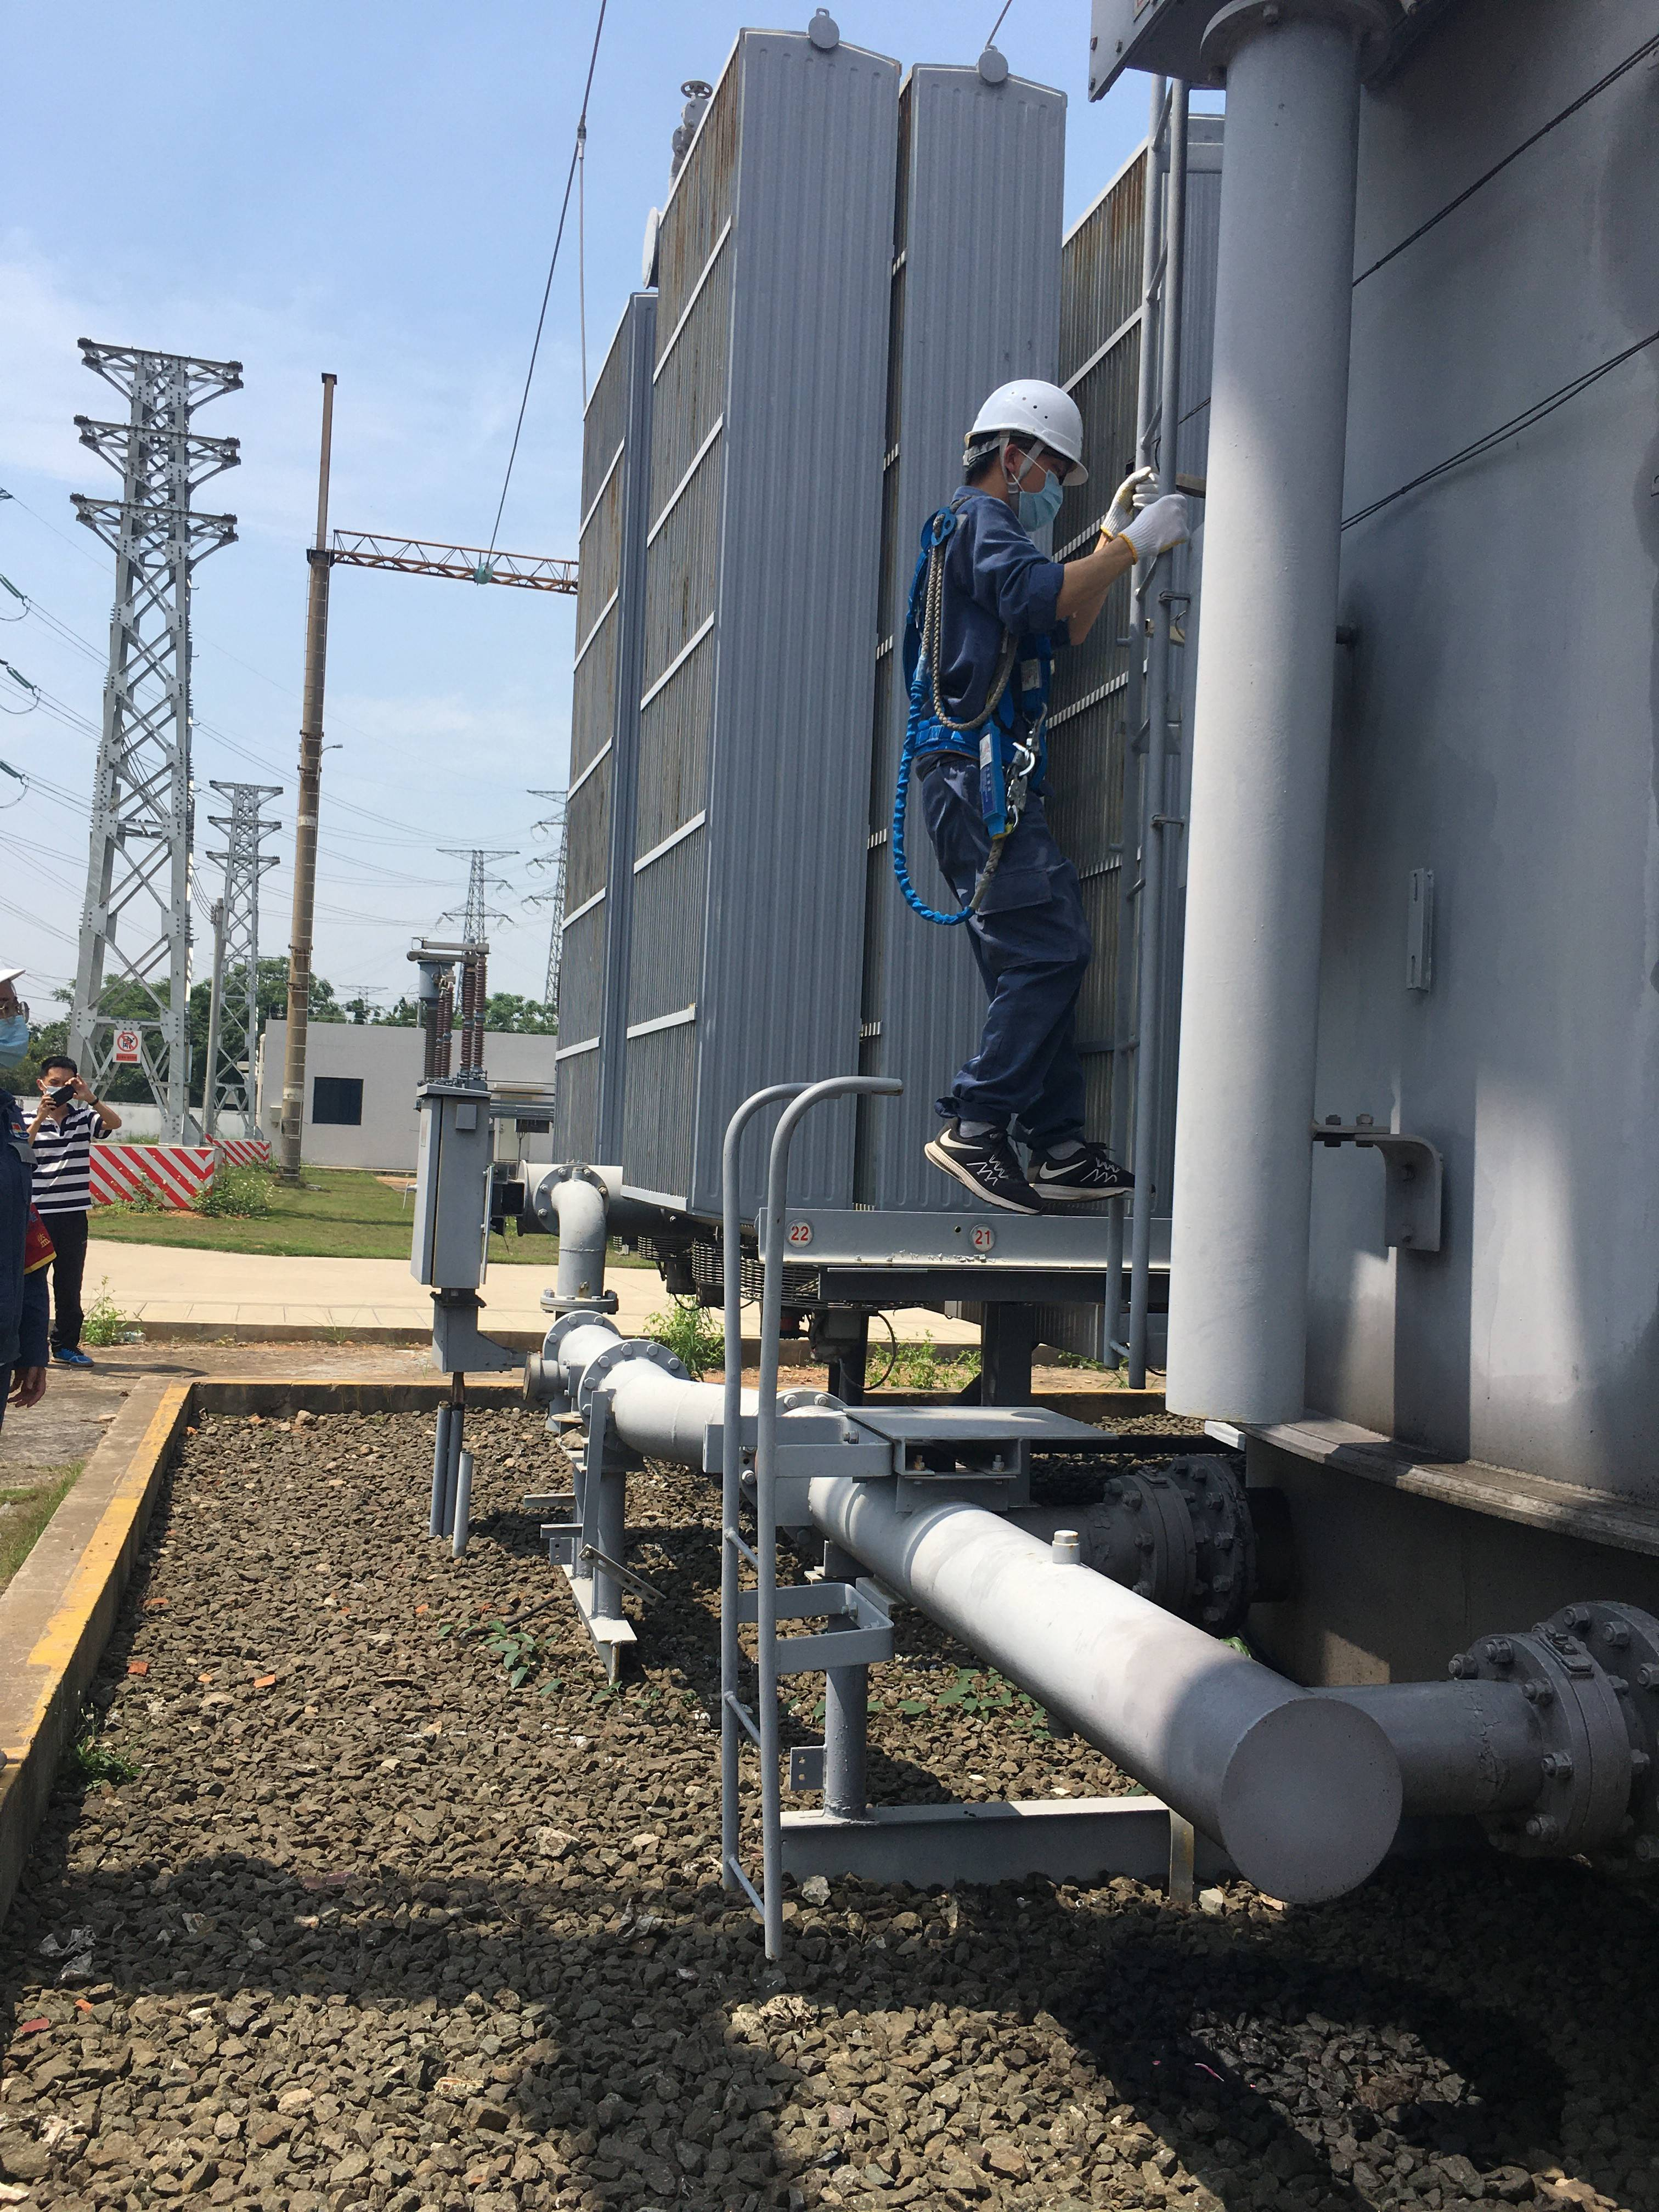downsuit: (925, 745, 1103, 1153)
upsuit: (910, 488, 1073, 772)
wrongtop: (1047, 510, 1168, 657)
